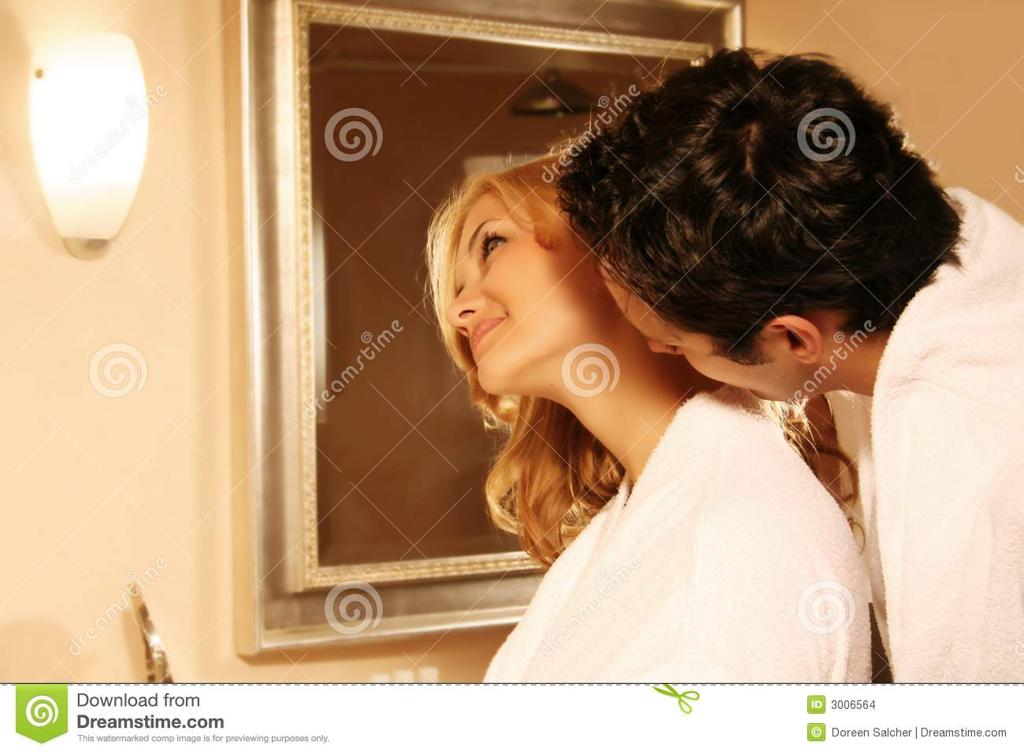face: (608, 248, 830, 404), (446, 190, 598, 392)
